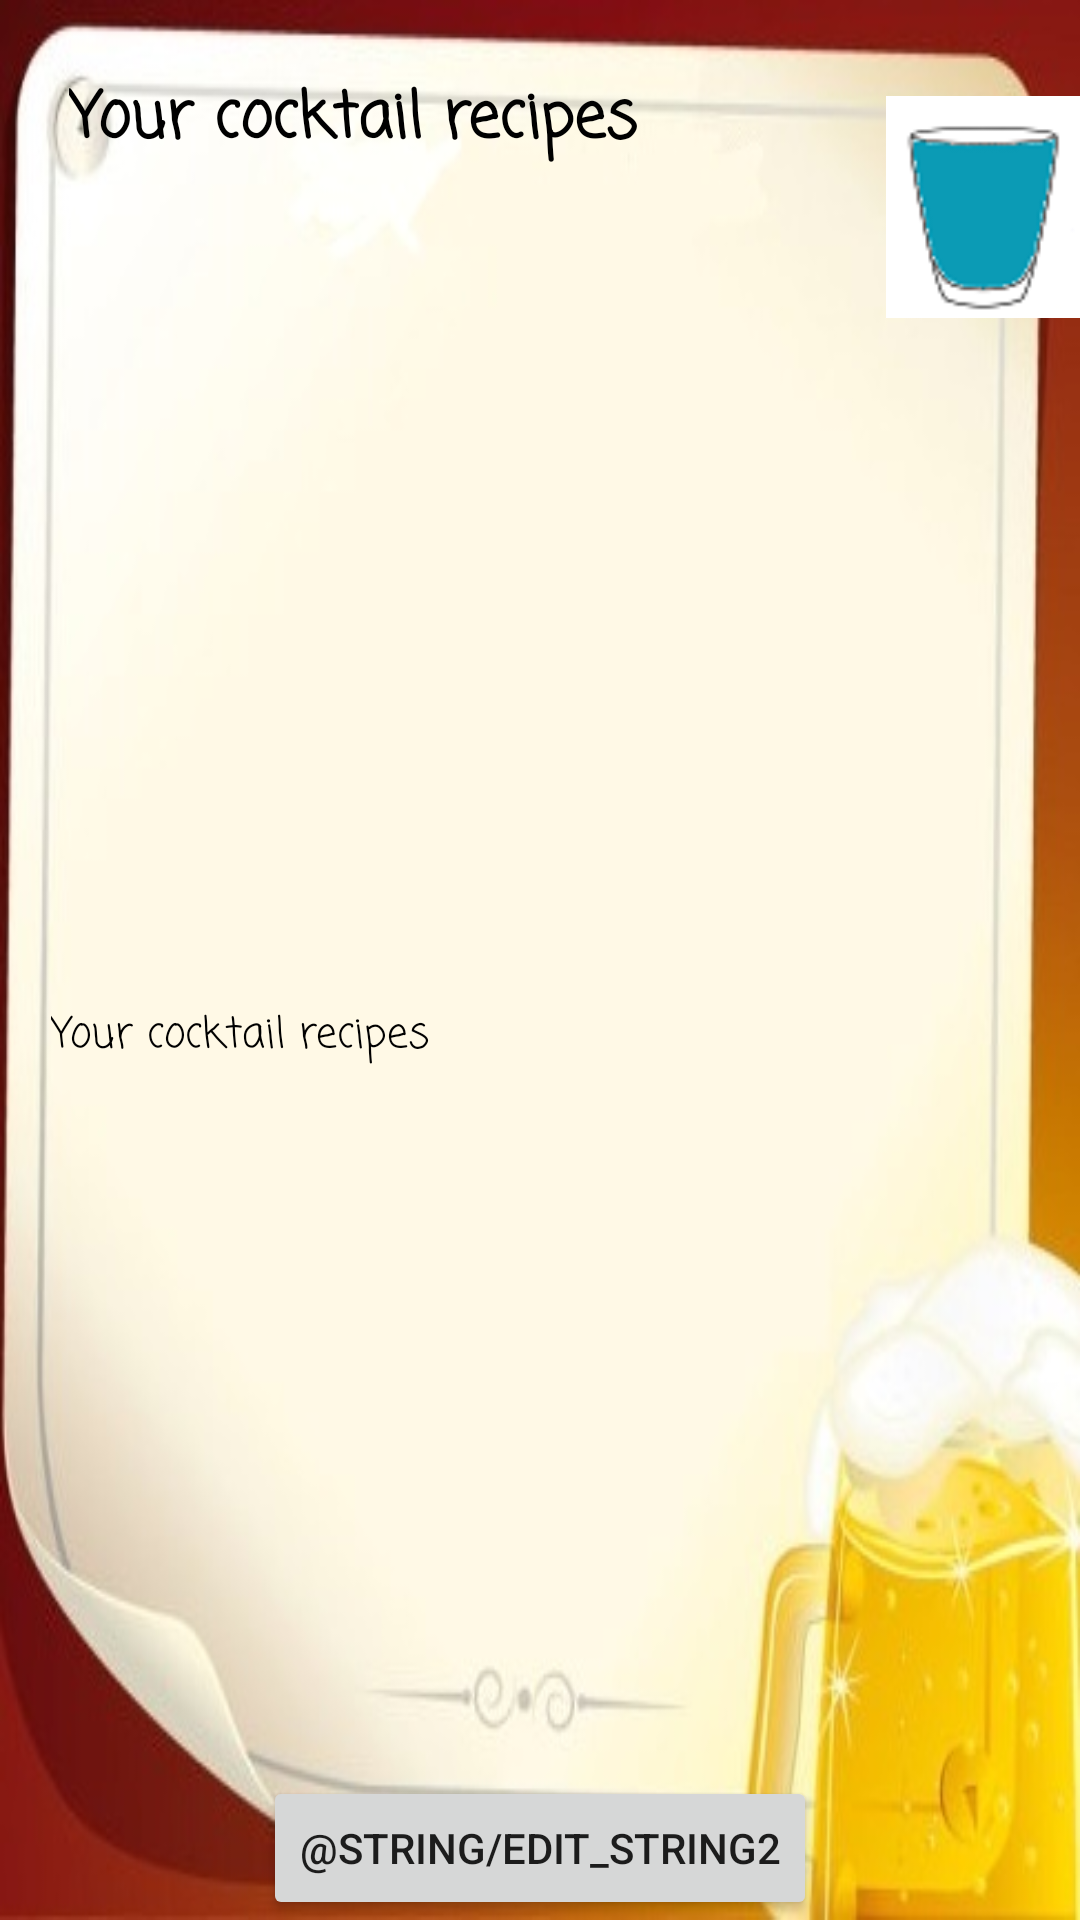

Screen size 1080×1920. Icon name, then its center in pixels as point (x, y):
bluesmall: point (983, 207)
